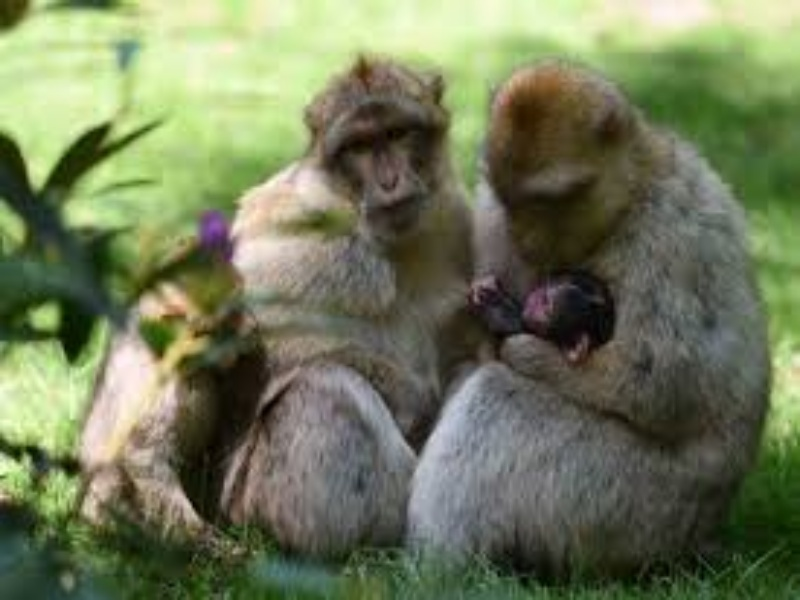monkey: (142, 47, 766, 572)
